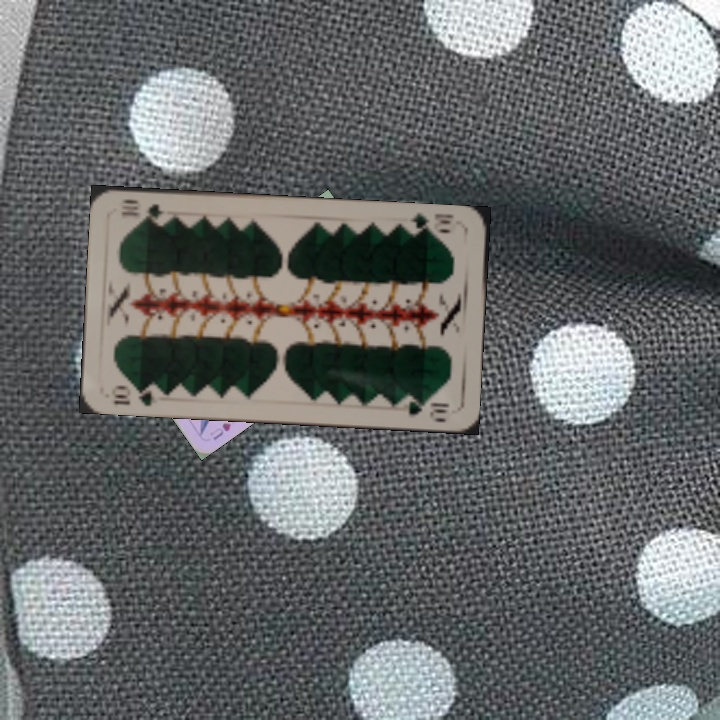G10: (108, 380, 164, 408), (404, 210, 456, 238)
HU: (206, 418, 234, 443)
